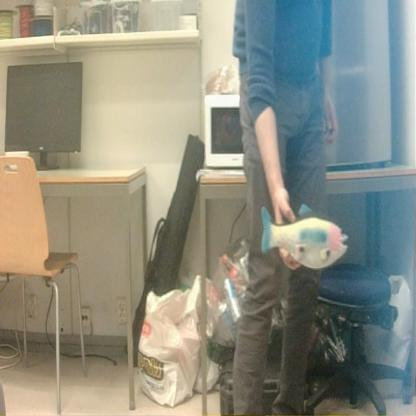rubberfish: (256, 198, 352, 277)
